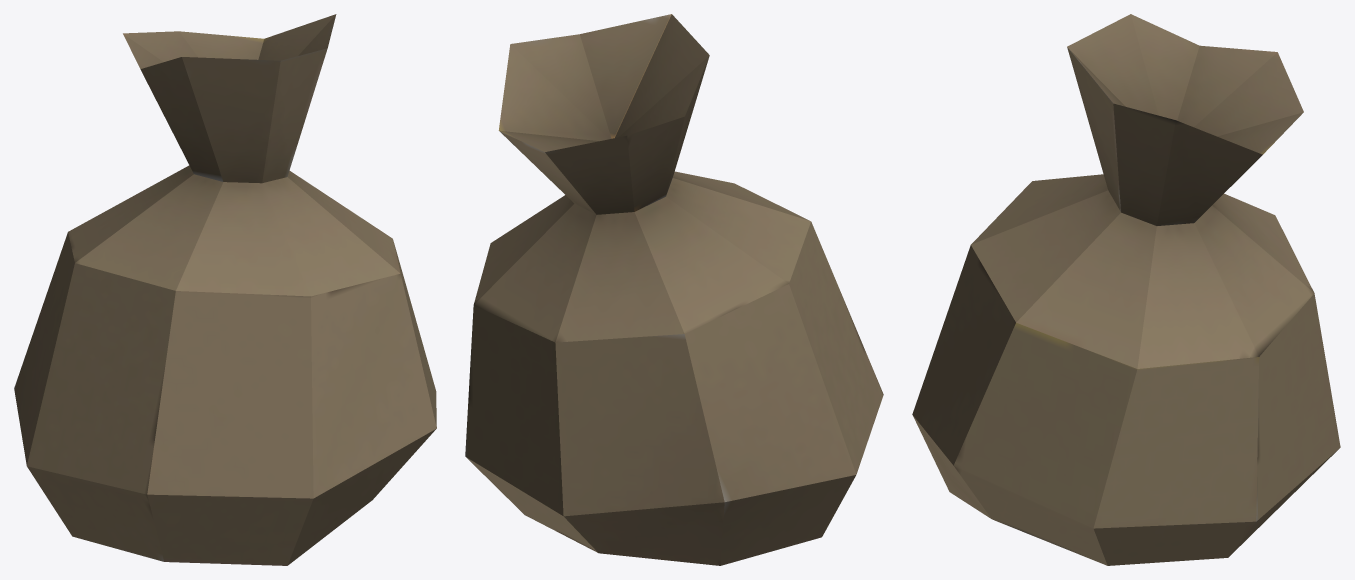
File: MSack.fbx
3 views of the same model, side by side, from view 1: azimuth 30°, elevation 25°; view 2: azimuth 150°, elevation 25°; view 3: azimuth 270°, elevation 25° (orthographic). The views are drawn at different scales.
Visible parts, largest first — view 1: Cube.154; view 2: Cube.154; view 3: Cube.154.
Part boxes in pixels (x1,y1,x2,y2): Cube.154: [14, 14, 436, 565]; Cube.154: [465, 14, 883, 565]; Cube.154: [912, 14, 1340, 565].
Size of the model in its own units: 0.2979 by 0.3366 by 0.2744.
